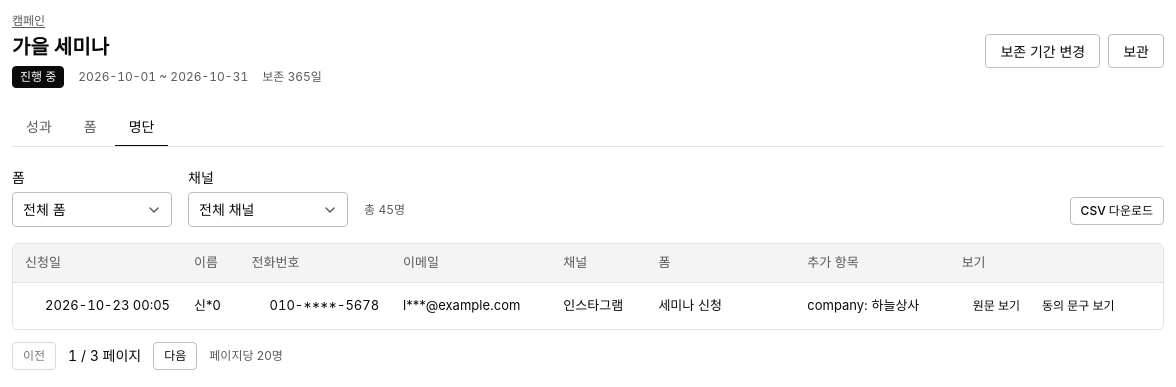
Test: 명단 탭 › 다음·이전 페이지가 page 파라미터를 바꾸고 size는 20이다
The width and height of the screenshot is (1176, 387).
Expected: the text "신*0" is shown, x1=182 y1=282 x2=240 y2=328
Expected: the list item "1 / 3 페이지" is shown, x1=68 y1=345 x2=141 y2=366
Click the button "다음".
click(175, 356)  # box x1=153 y1=342 x2=197 y2=370
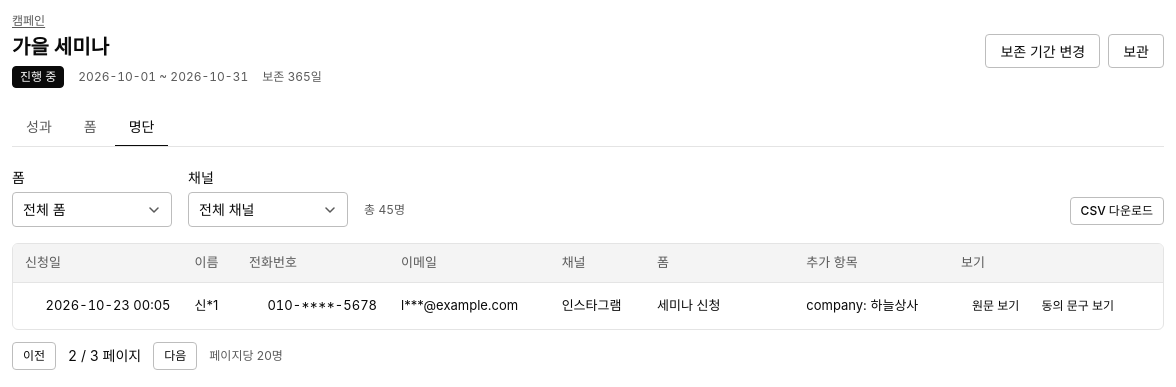
Expected: the text "신*1" is shown, x1=182 y1=282 x2=237 y2=328
Click the button "다음".
click(175, 356)  # box x1=153 y1=342 x2=197 y2=370
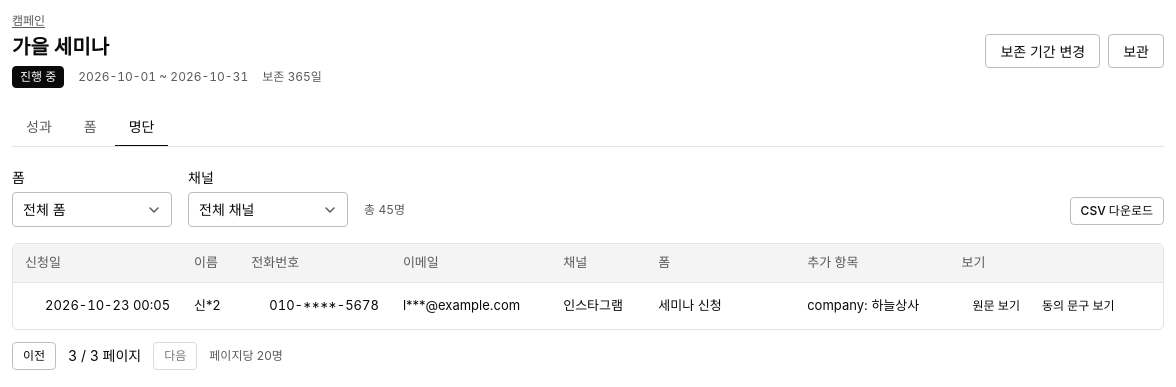
Expected: the text "신*2" is shown, x1=182 y1=282 x2=239 y2=328
Expected: the button with aria-label "다음 페이지" is disabled, x1=153 y1=342 x2=197 y2=370
Click the button "이전".
click(34, 356)  # box x1=12 y1=342 x2=56 y2=370
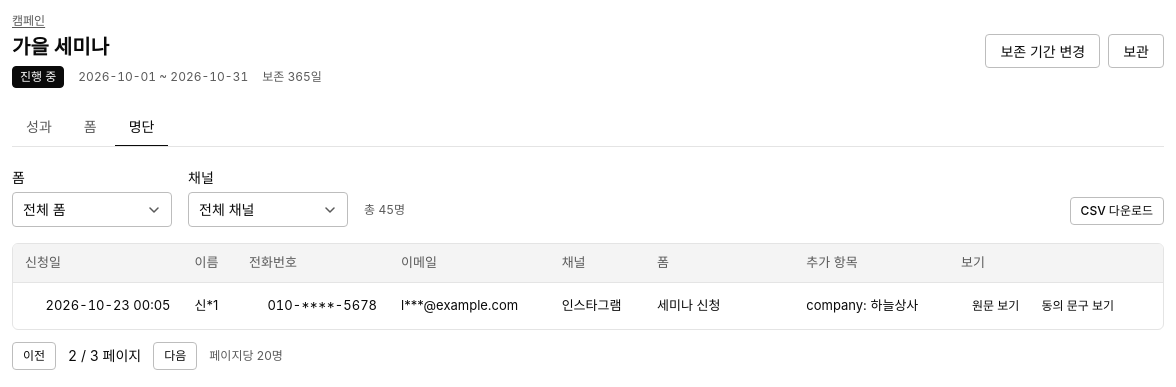
Expected: the text "신*1" is shown, x1=182 y1=282 x2=237 y2=328
